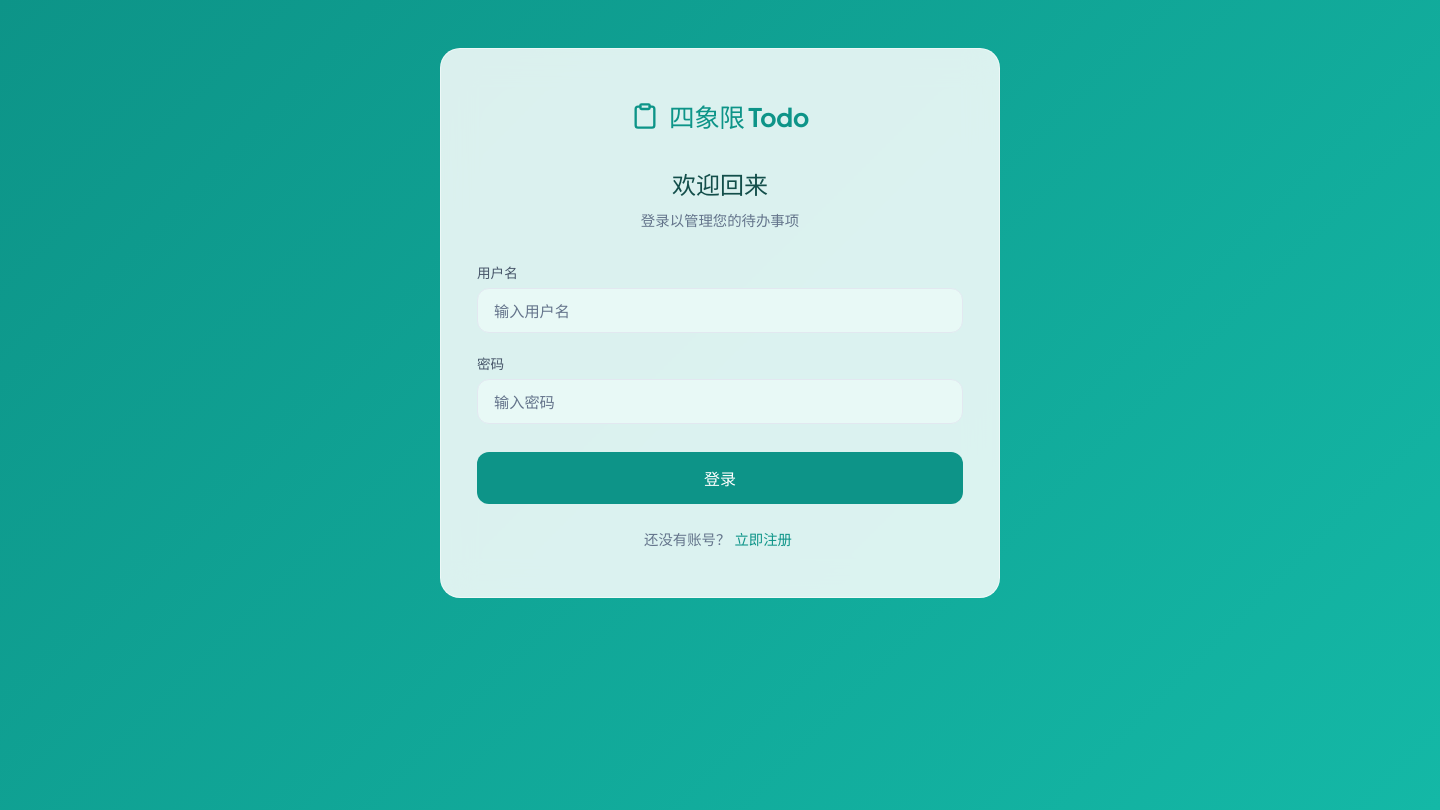
Test case: Auth Acceptance › validates required fields and minimum password length
Click the button "登录". click: (720, 478)
box: 477,452 -> 963,504
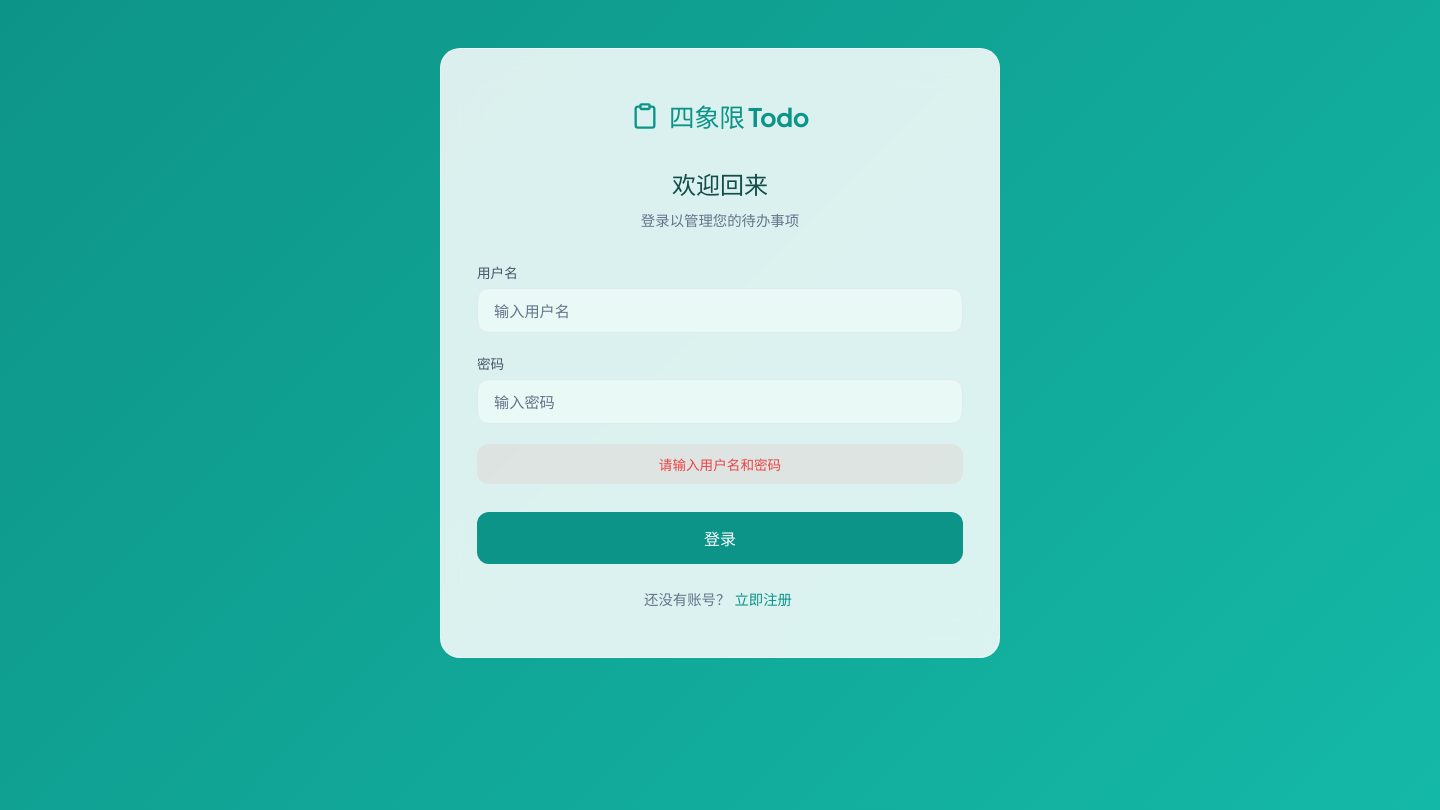
Expected: the text "请输入用户名和密码" is shown, 477,444 -> 963,484
Type "eva" into the field labelled "用户名". click: (720, 310)
box: 477,288 -> 963,333
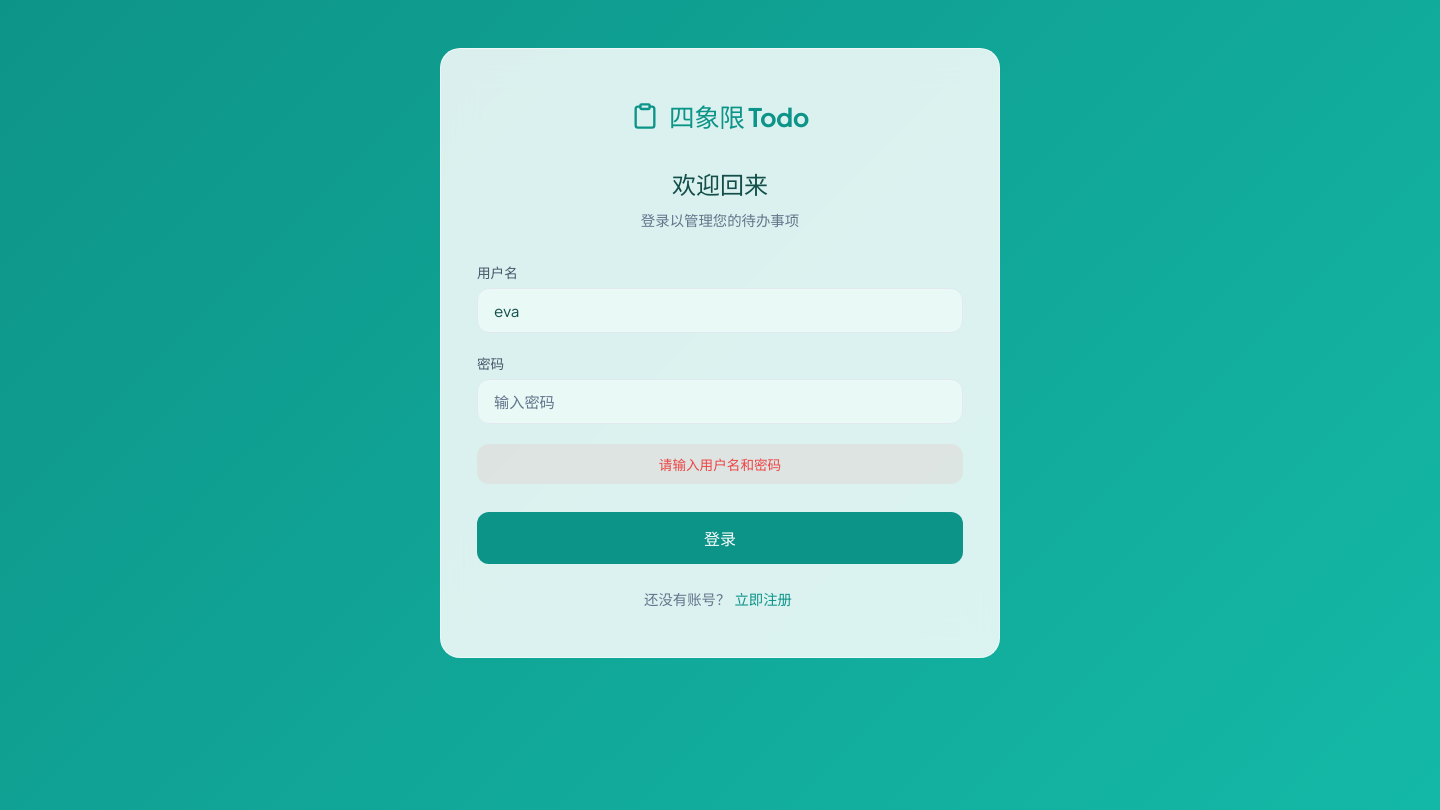
Type "12345" into the password field labelled "密码". click: (720, 402)
box: 477,379 -> 963,424
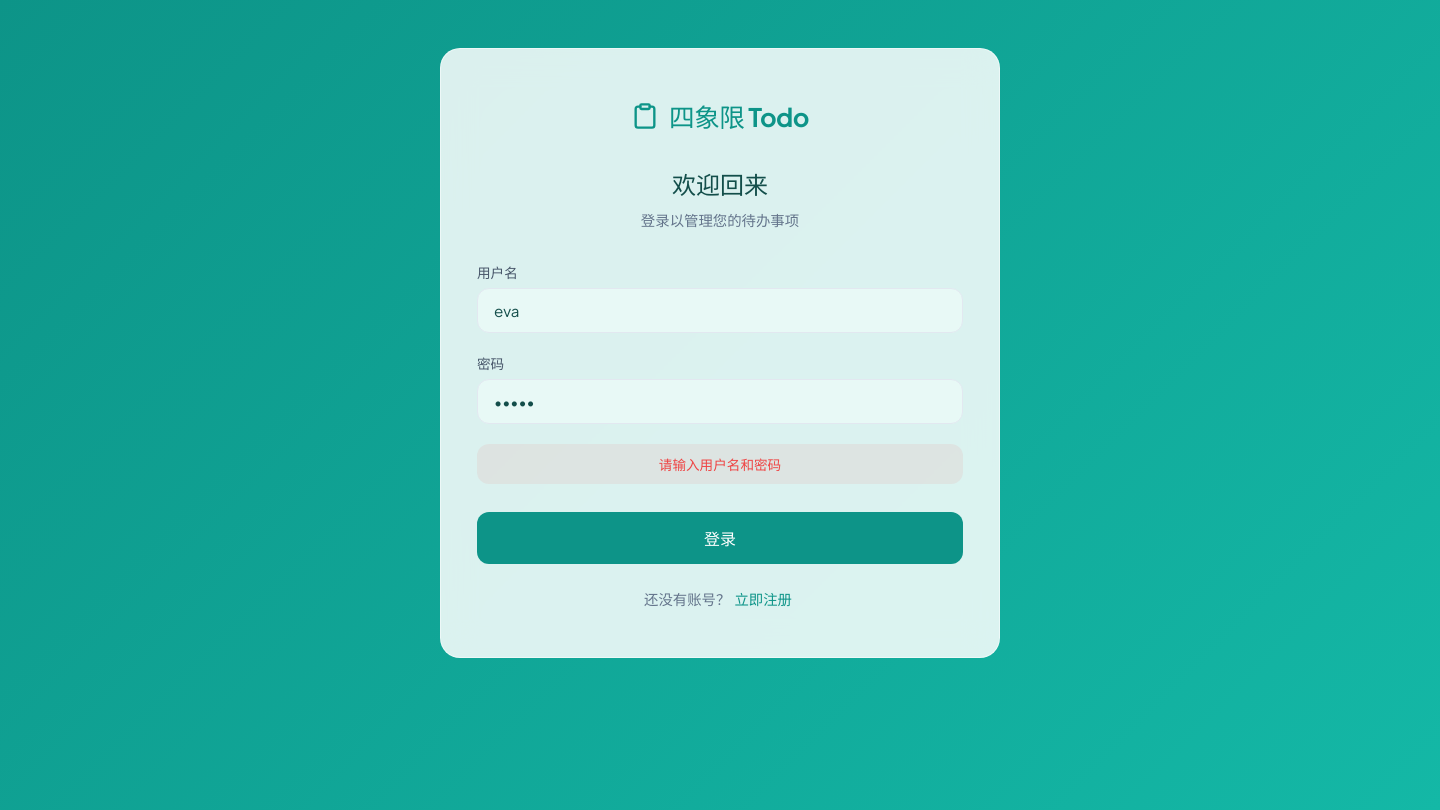
Click the button "登录". click: (720, 538)
box: 477,512 -> 963,564
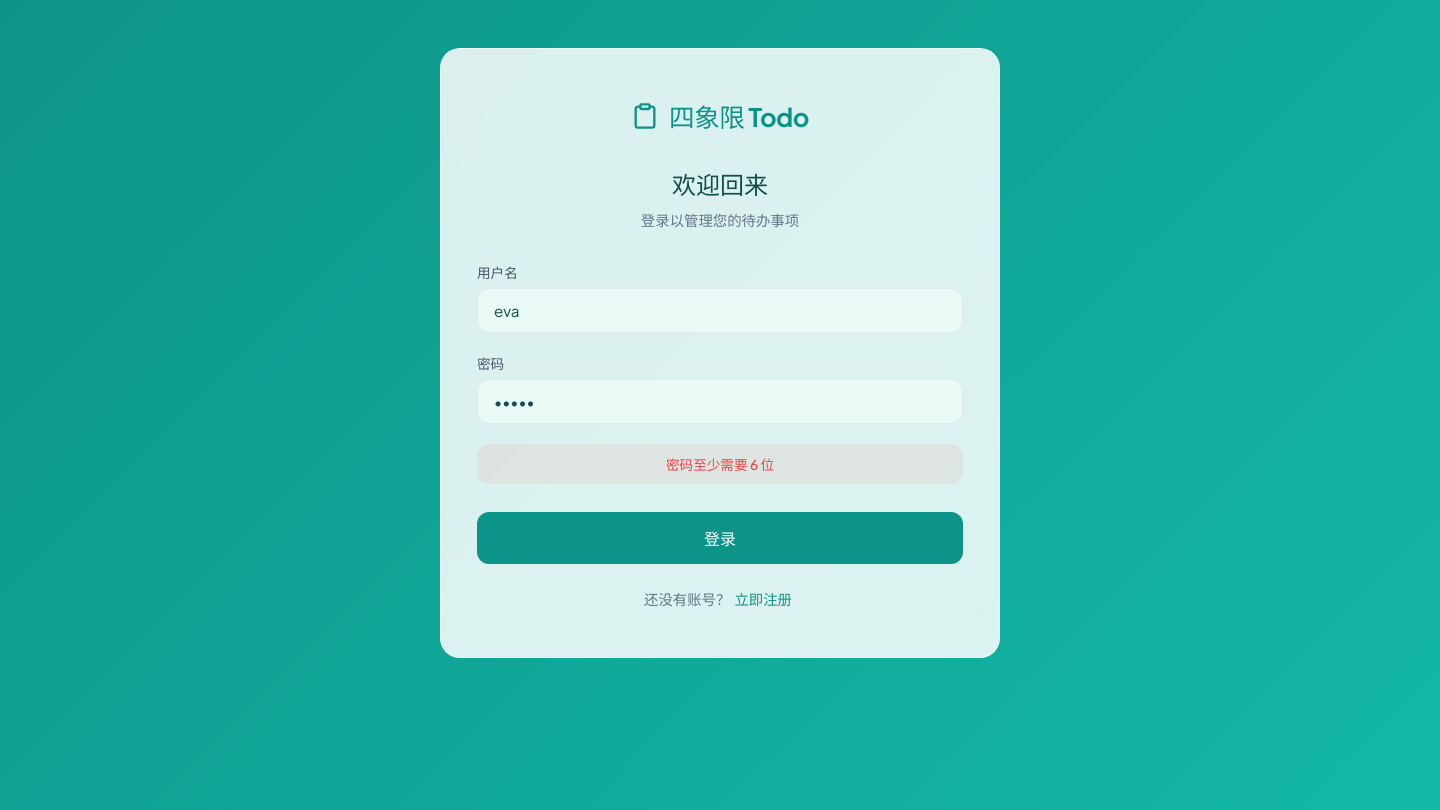
Expected: the text "密码至少需要 6 位" is shown, 477,444 -> 963,484
